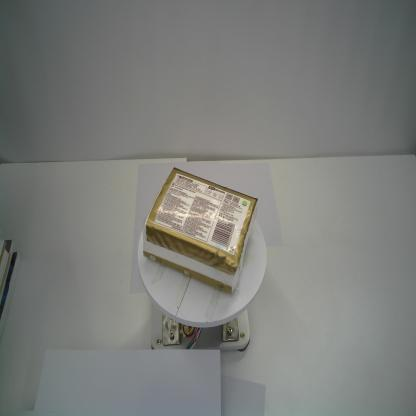Tissue: (142, 166, 258, 296)
